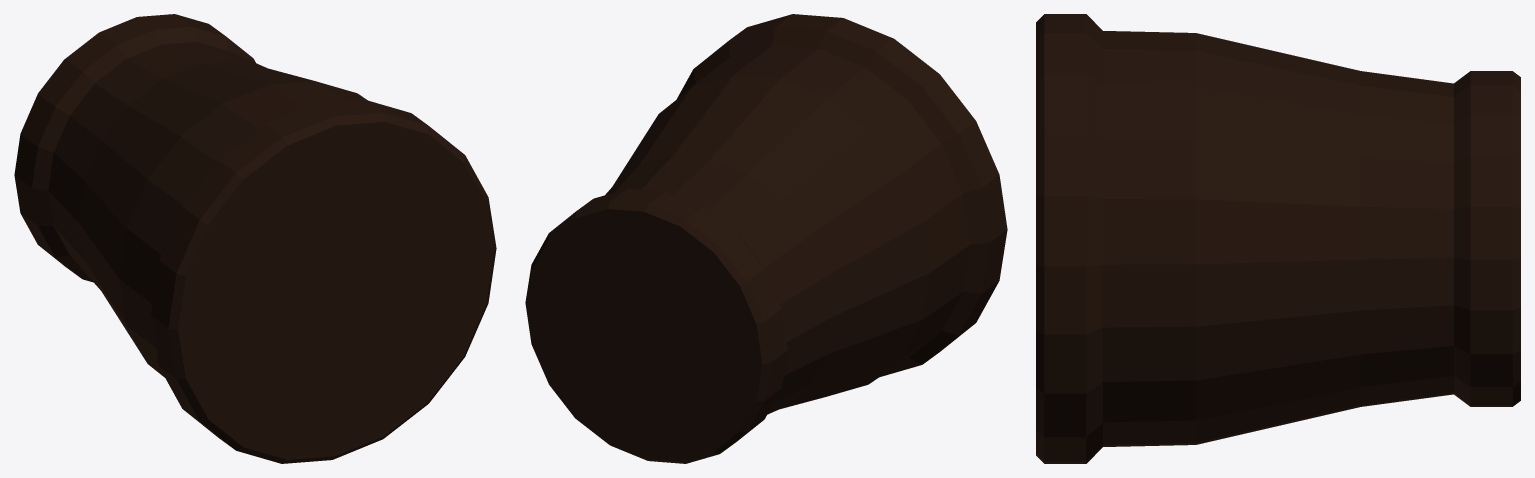
File: PipeShrink.obj
3 renders of one model, left to right at view 1: azimuth 30°, elevation 25°; view 2: azimuth 150°, elevation 25°; view 3: azimuth 270°, elevation 25°, orthographic. The views are drawn at different scales.
Visible parts, largest first — view 1: PipeShrink; view 2: PipeShrink; view 3: PipeShrink.
Boxes of the visible parts, <box> form: PipeShrink: <box>14,14,496,463</box>; PipeShrink: <box>525,14,1007,463</box>; PipeShrink: <box>1036,14,1520,463</box>.
Bounding box in the file's own units: 0.0541 × 0.054 × 0.0578.
